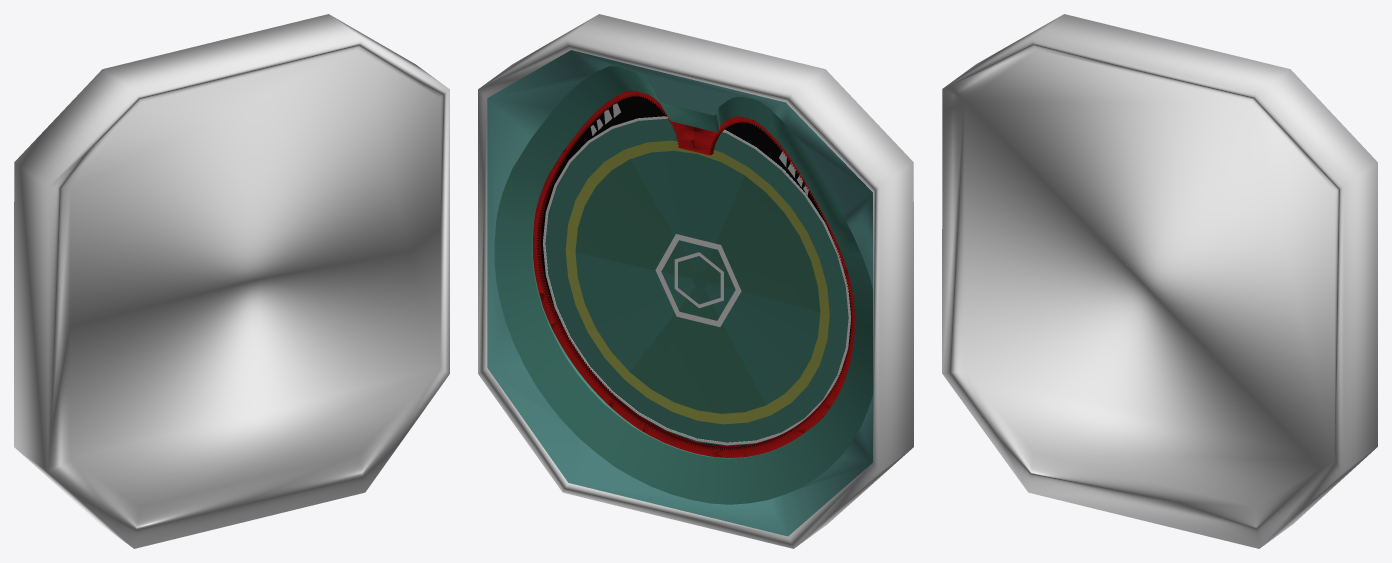
Rendered from beyblade_x_-_stadium.fbx.
3 renders of one model, left to right at view 1: azimuth 30°, elevation 25°; view 2: azimuth 150°, elevation 25°; view 3: azimuth 330°, elevation 25°, orthographic.
Parts seen in each view (by area): view 1: imagetostl_mesh0; view 2: imagetostl_mesh0, imagetostl_mesh1, imagetostl_mesh11, imagetostl_mesh9, imagetostl_mesh8, imagetostl_mesh2, imagetostl_mesh12, imagetostl_mesh4, imagetostl_mesh5, imagetostl_mesh3, imagetostl_mesh7, imagetostl_mesh13 (+1 smaller); view 3: imagetostl_mesh0.
Boxes of the visible parts, left/top/right/bottom form: imagetostl_mesh0: left=14, top=14, right=449, bottom=548; imagetostl_mesh0: left=478, top=14, right=913, bottom=548; imagetostl_mesh1: left=494, top=66, right=872, bottom=504; imagetostl_mesh11: left=487, top=50, right=872, bottom=536; imagetostl_mesh9: left=575, top=159, right=820, bottom=413; imagetostl_mesh8: left=575, top=151, right=820, bottom=405; imagetostl_mesh2: left=532, top=109, right=848, bottom=458; imagetostl_mesh12: left=533, top=90, right=854, bottom=457; imagetostl_mesh4: left=565, top=140, right=829, bottom=424; imagetostl_mesh5: left=540, top=96, right=851, bottom=445; imagetostl_mesh3: left=542, top=116, right=850, bottom=445; imagetostl_mesh7: left=655, top=234, right=741, bottom=326; imagetostl_mesh13: left=552, top=308, right=646, bottom=423; imagetostl_mesh0: left=942, top=14, right=1377, bottom=548.
Size of the model in its own units: 8519 by 9202 by 1247.
